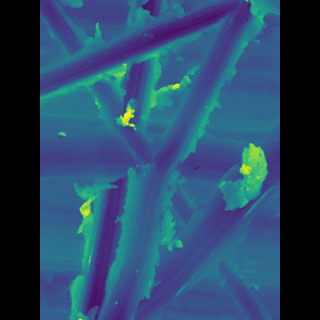Loch: (121, 0, 232, 318), (143, 112, 249, 319), (70, 0, 219, 101), (95, 172, 135, 319)
